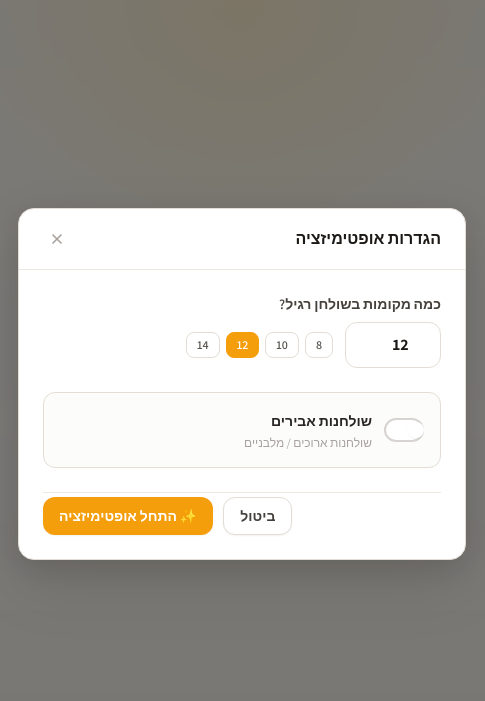
Test: OptimizeModal › shows knight fields when knight toggle is enabled
The image size is (485, 701).
Click the checkbox with test id "optimize-knight-toggle": coordinates (334, 431) [244, 412, 424, 450]
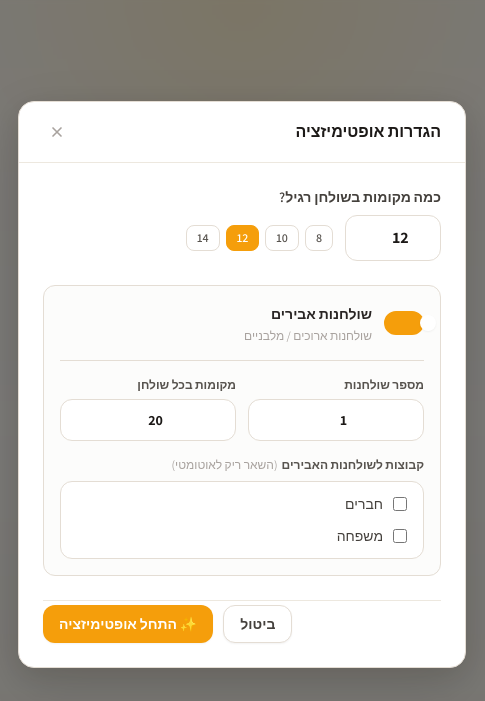
Expected: the number field with test id "optimize-knight-count" is shown, [248, 398, 424, 440]
Expected: the number field with test id "optimize-knight-capacity" is shown, [60, 398, 236, 440]
